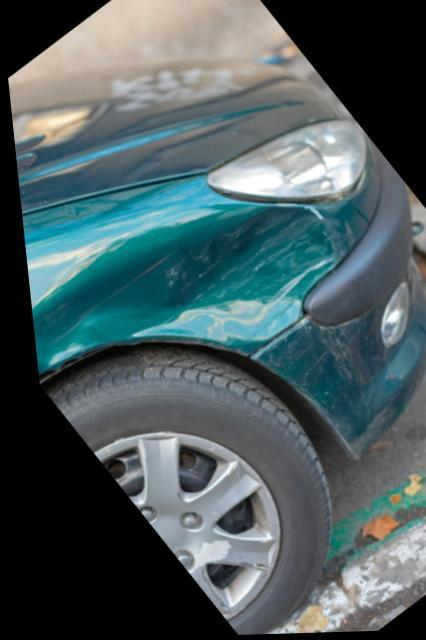dent: (25, 206, 330, 364)
